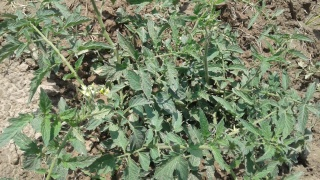tomato flower: (76, 80, 114, 103)
tomato plant: (127, 23, 245, 156), (15, 5, 123, 75)
